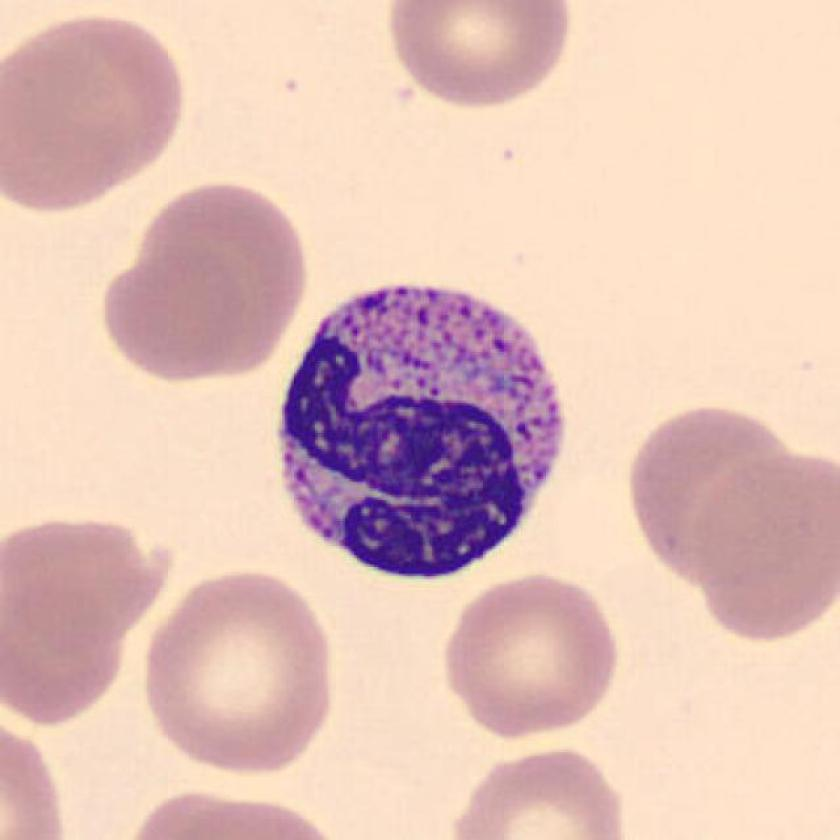neutrophil: (282, 290, 567, 579)
